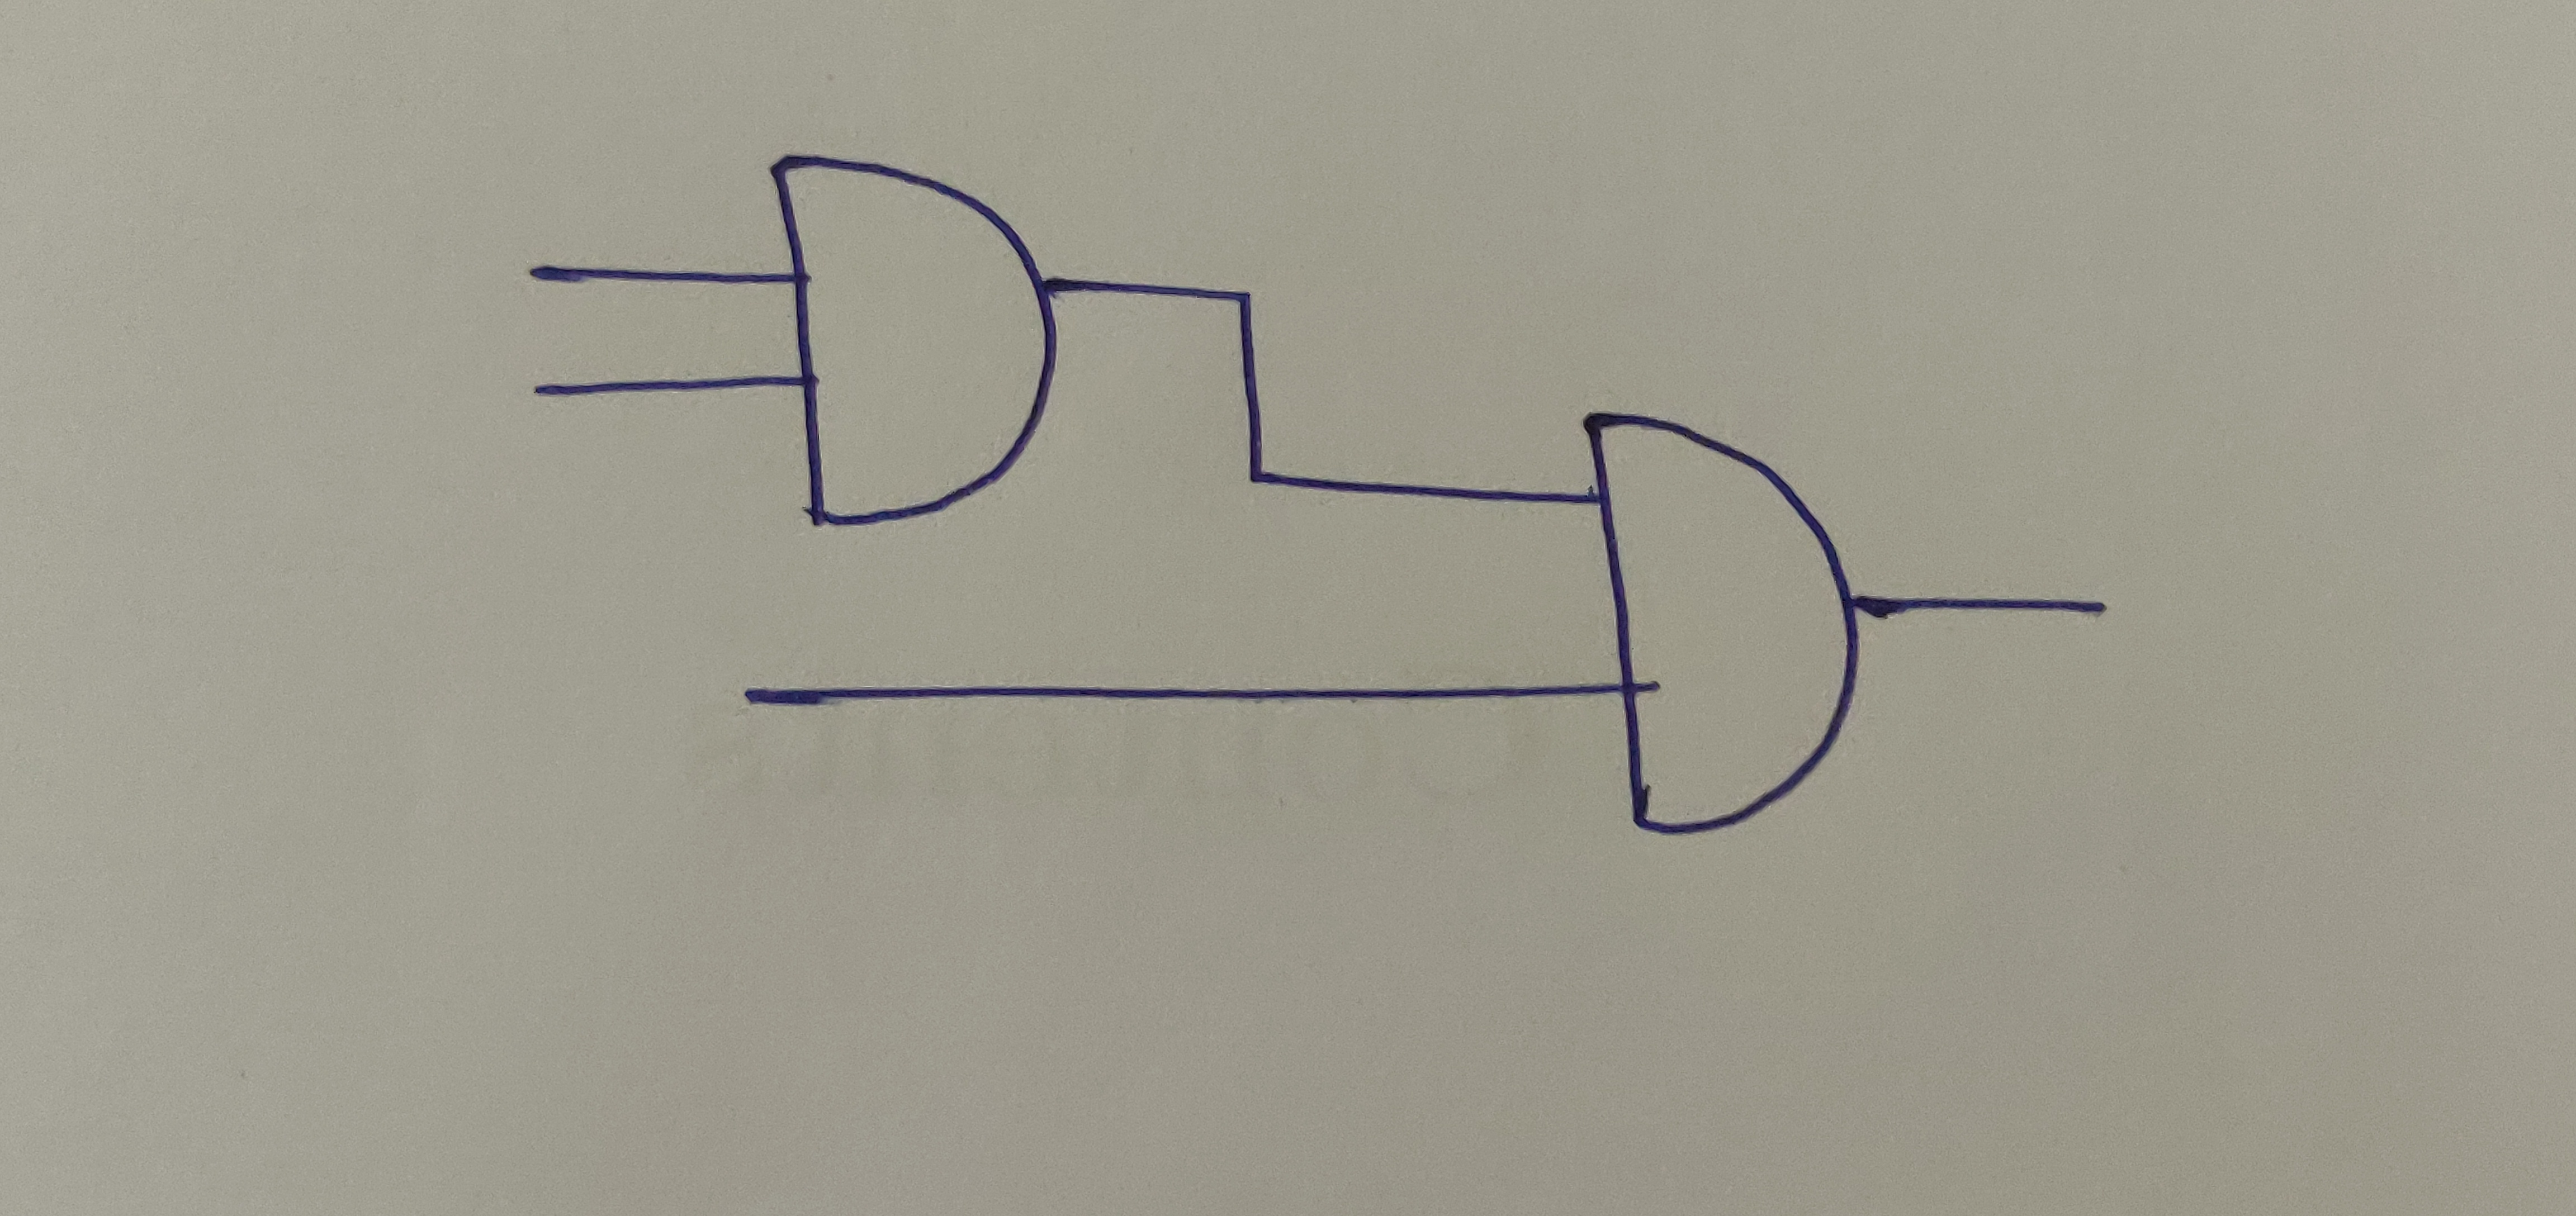and: (1575, 401, 1861, 836), (761, 150, 1060, 529)
